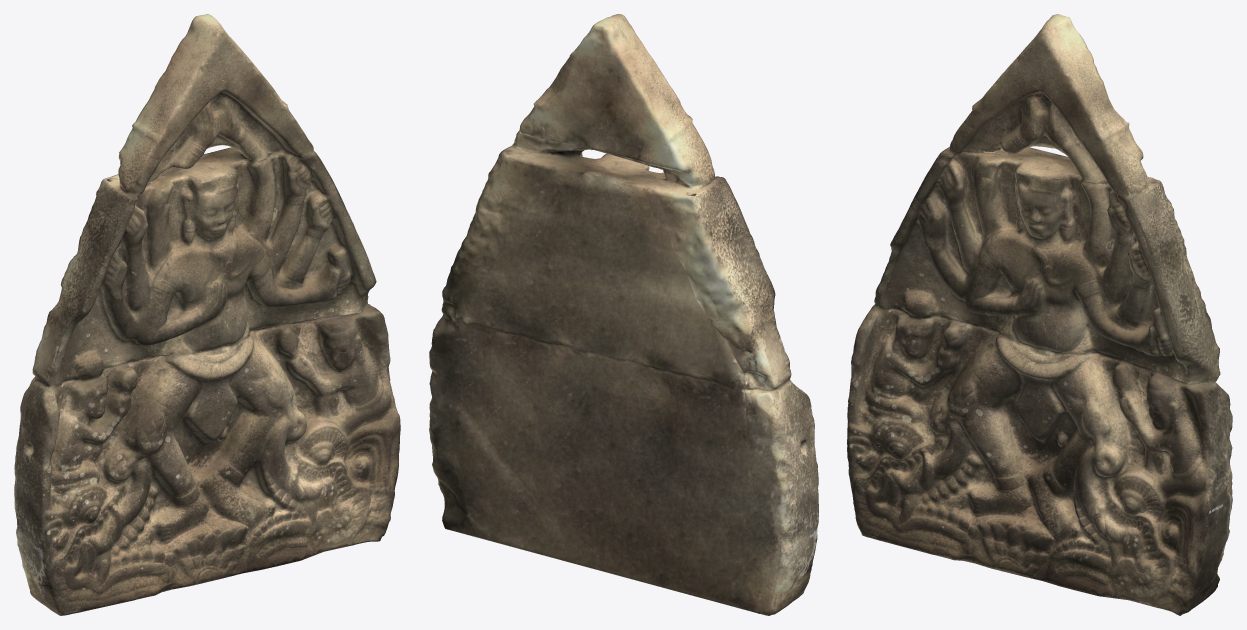
File: 40_MysonSanctuaryD2_ShivaMua_final.glb
The picture shows the model from 3 angles, left to right: view 1: azimuth 30°, elevation 25°; view 2: azimuth 150°, elevation 25°; view 3: azimuth 330°, elevation 25°; orthographic projection.
Bounding box in the file's own units: 1.23 × 1.75 × 0.2224.
1 material, 1 textured.
